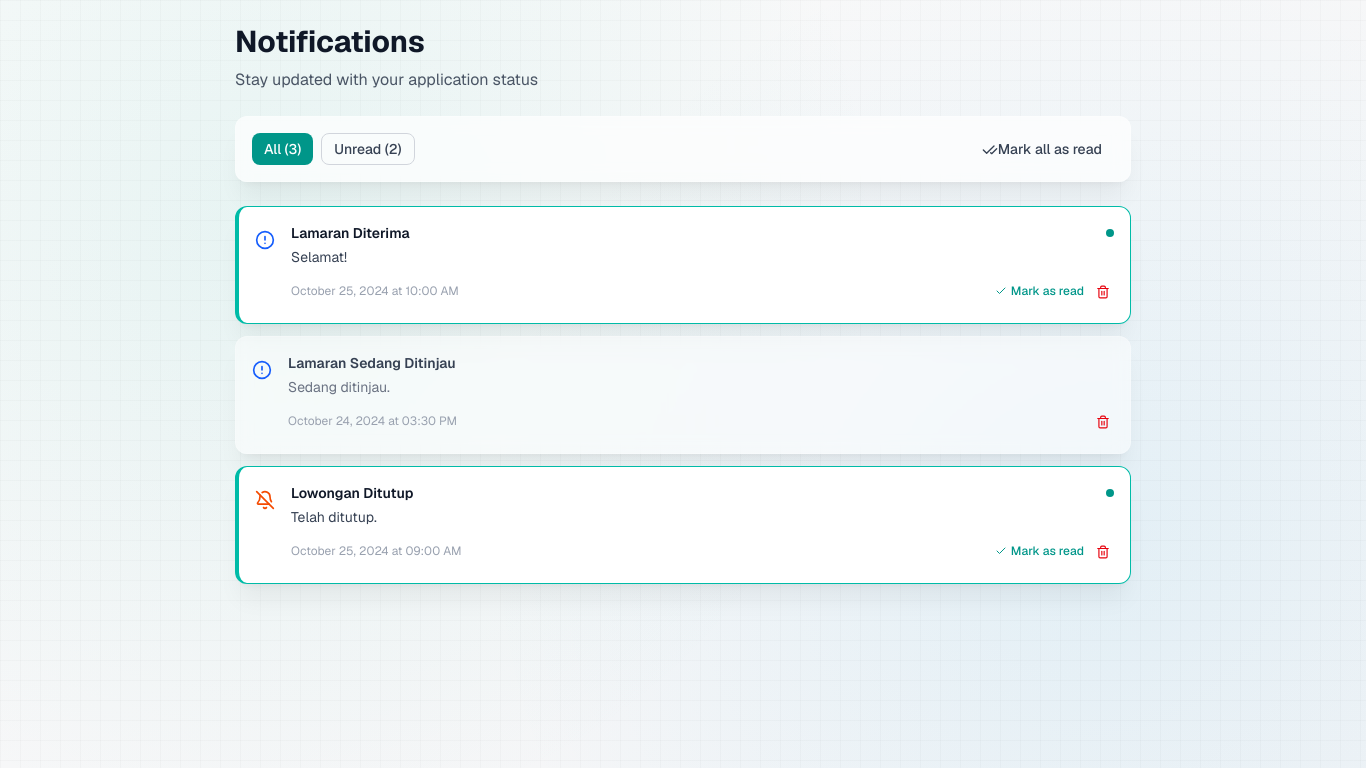
NotificationsPage › filters notifications by unread status
Click the button "Unread (2)" at (368, 149), box [321,133,414,165]
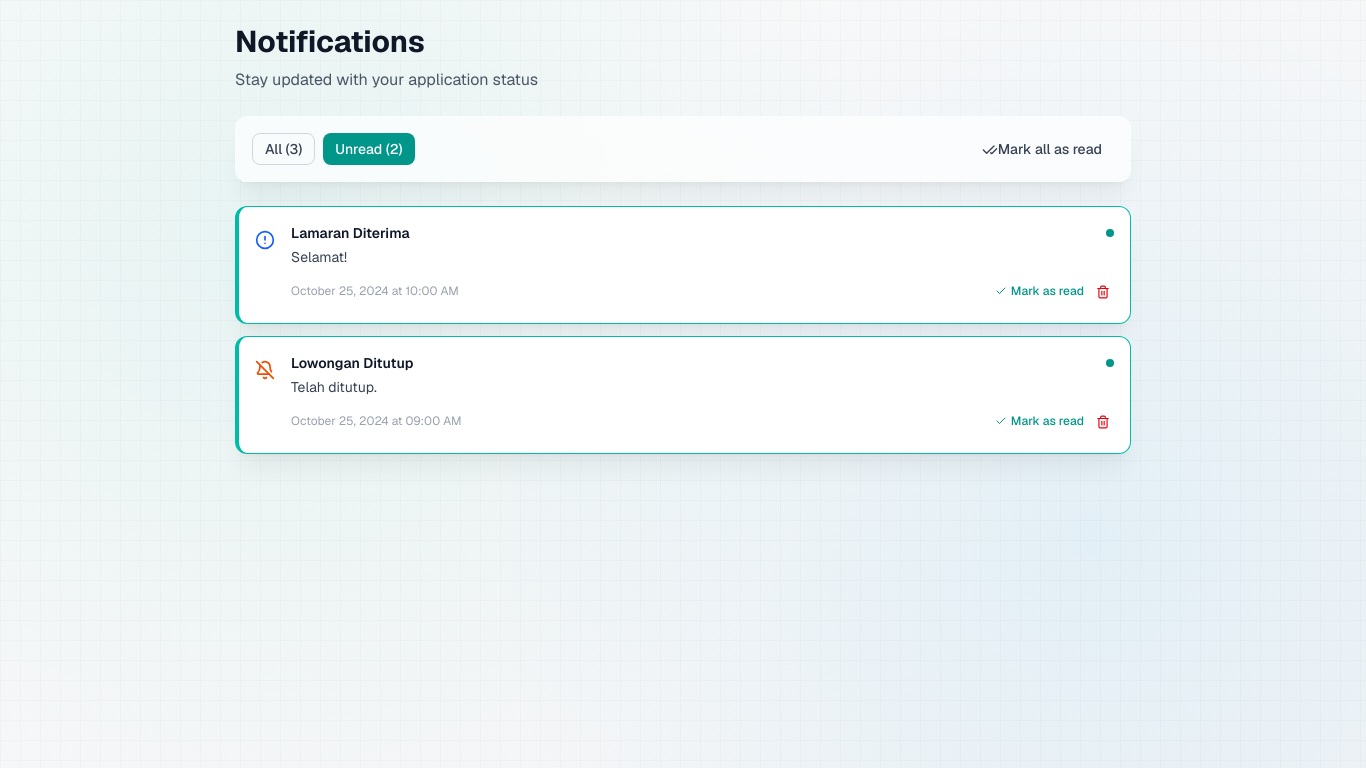
Expected: the heading "Lamaran Diterima" is shown, [291,223,410,243]
Now the heading "Lamaran Sedang Ditinjau" is gone
